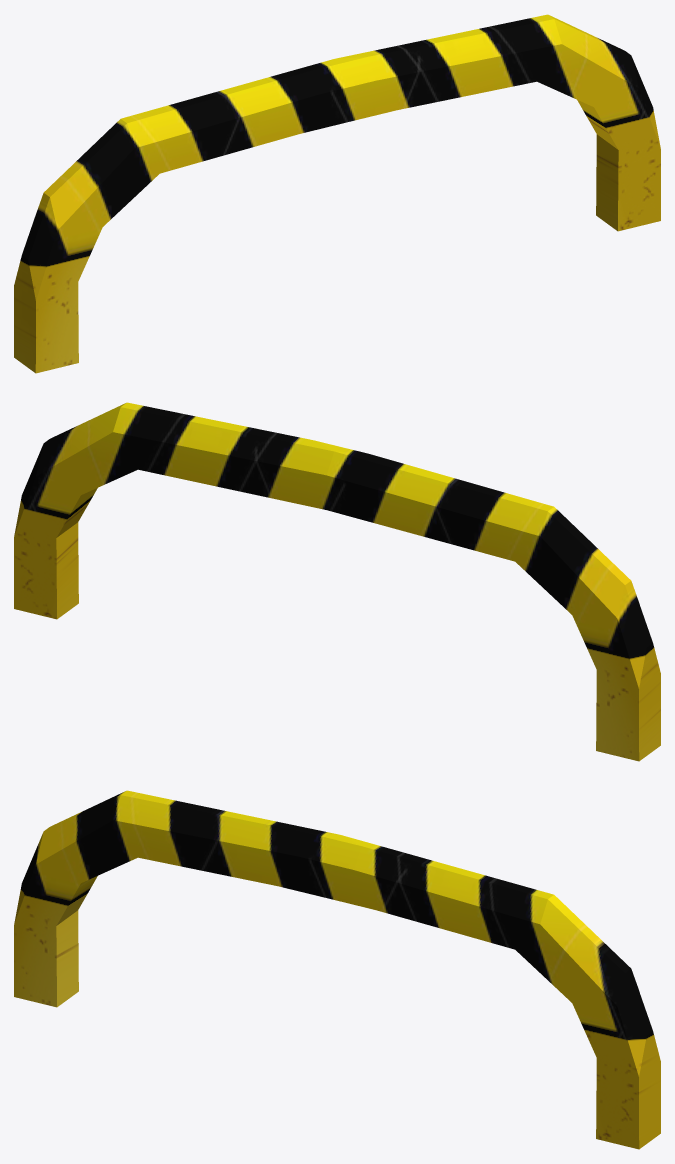
The model's file is parking bar 1.fbx.
3 views of the same model, one above another, from view 1: azimuth 30°, elevation 25°; view 2: azimuth 150°, elevation 25°; view 3: azimuth 330°, elevation 25° (orthographic).
Parts seen in each view (by area): view 1: pCube4; view 2: pCube4; view 3: pCube4.
Part boxes in pixels (x1,y1,x2,y2): pCube4: (14, 14, 660, 373); pCube4: (14, 402, 660, 761); pCube4: (14, 790, 660, 1149).
Bounding box in the file's own units: 2.6 × 0.9066 × 0.1572.
